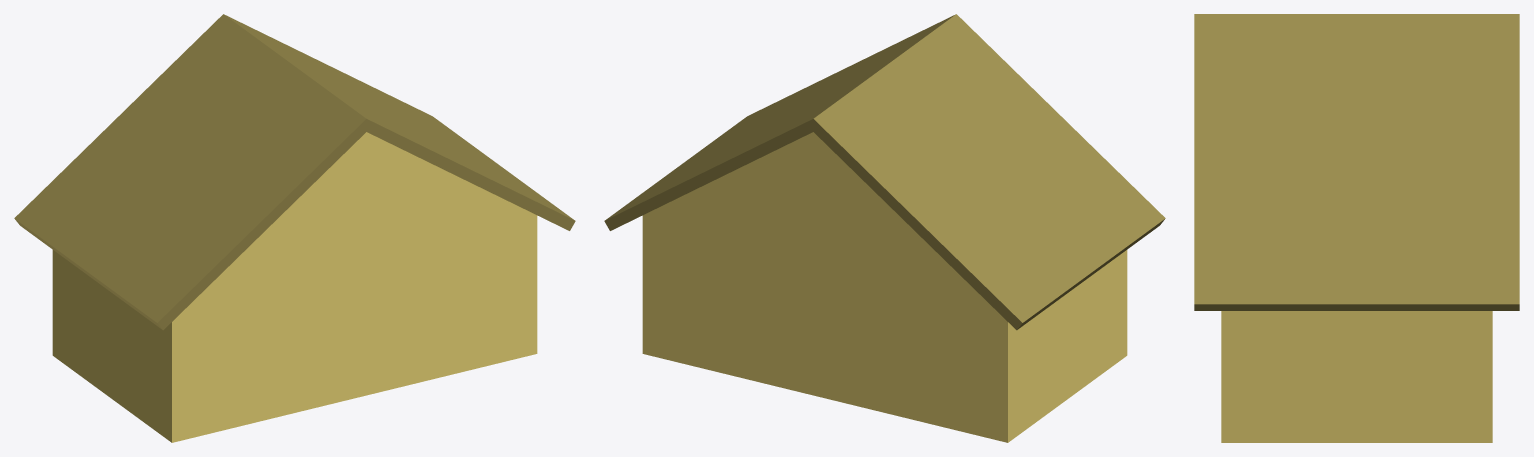
File: result.glb
3 renders of one model, left to right at view 1: azimuth 30°, elevation 25°; view 2: azimuth 150°, elevation 25°; view 3: azimuth 270°, elevation 25°, orthographic. The views are drawn at different scales.
Parts seen in each view (by area): view 1: 9277890a-44a1-40c2-8fac-ce32ed205638__undefined, d85ce84d-ba39-4a89-89e1-a87621cb931e__undefined (×2); view 2: 9277890a-44a1-40c2-8fac-ce32ed205638__undefined, d85ce84d-ba39-4a89-89e1-a87621cb931e__undefined (×2); view 3: d85ce84d-ba39-4a89-89e1-a87621cb931e__undefined, 9277890a-44a1-40c2-8fac-ce32ed205638__undefined.
Boxes of the visible parts, <box> form: 9277890a-44a1-40c2-8fac-ce32ed205638__undefined: <box>52,132,537,442</box>; d85ce84d-ba39-4a89-89e1-a87621cb931e__undefined (×2): <box>14,14,575,330</box>; 9277890a-44a1-40c2-8fac-ce32ed205638__undefined: <box>642,132,1127,442</box>; d85ce84d-ba39-4a89-89e1-a87621cb931e__undefined (×2): <box>604,14,1165,330</box>; d85ce84d-ba39-4a89-89e1-a87621cb931e__undefined: <box>1194,14,1519,310</box>; 9277890a-44a1-40c2-8fac-ce32ed205638__undefined: <box>1221,311,1492,442</box>.
Bounding box in the file's own units: 1013 × 667 × 600.
